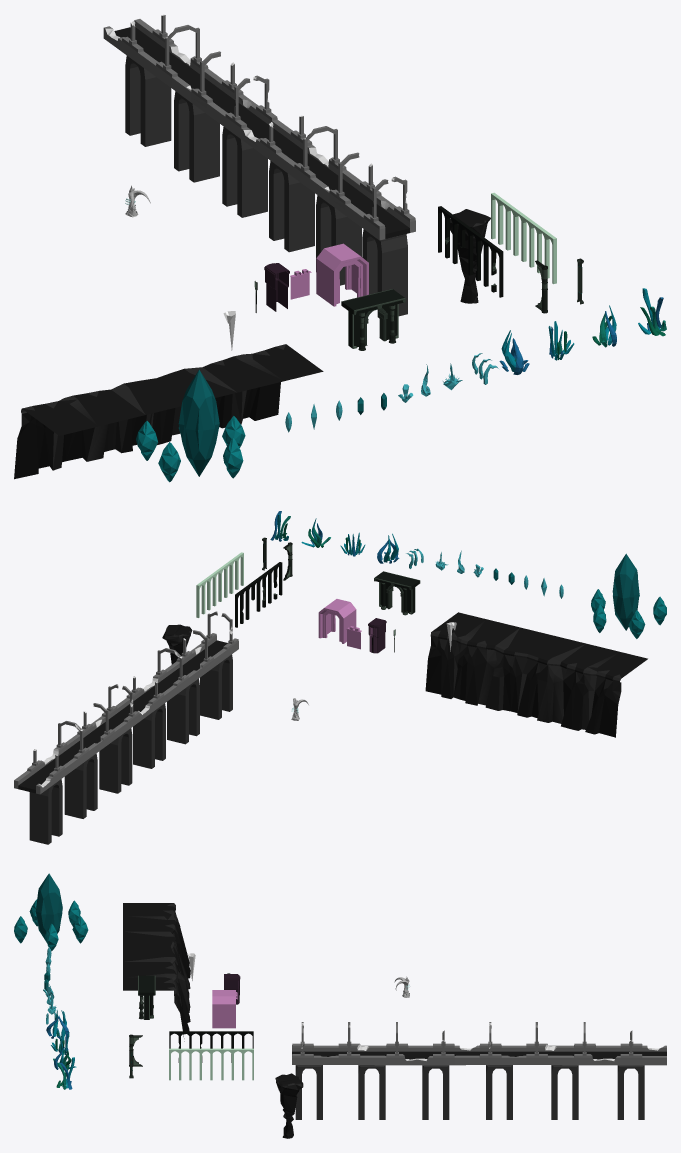
The model's file is Cristal_prefab_SRC.fbx.
The picture shows the model from 3 angles, top to bottom: view 1: azimuth 30°, elevation 25°; view 2: azimuth 150°, elevation 25°; view 3: azimuth 270°, elevation 25°; orthographic projection. The views are drawn at different scales.
Parts seen in each view (by area): view 1: most, skal, kri14, ark2, arka, Tube001, ark1, stakak2, bash, kri1; view 2: most, skal, kri14, ark2, ark1, Tube001, arka, stakak2, bash; view 3: most, skal, kri14, ark2, stakak2, arka, Tube001, ark1.
Part boxes in pixels (box(x1,y1,x2,y2)): most: box(103, 14, 415, 318); skal: box(14, 344, 323, 479); kri14: box(136, 369, 245, 482); ark2: box(491, 192, 556, 284); arka: box(316, 243, 368, 306); Tube001: box(341, 289, 405, 350); ark1: box(438, 206, 503, 297); stakak2: box(450, 209, 490, 303); bash: box(264, 263, 289, 311); kri1: box(638, 288, 666, 336); most: box(14, 611, 238, 844); skal: box(425, 612, 647, 737); kri14: box(591, 553, 666, 638); ark2: box(196, 552, 243, 617); ark1: box(235, 562, 282, 627); Tube001: box(374, 571, 420, 615); arka: box(318, 599, 356, 643); stakak2: box(162, 624, 192, 664); bash: box(368, 618, 386, 653); most: box(292, 1022, 666, 1119); skal: box(123, 903, 190, 1041); kri14: box(14, 873, 88, 950); ark2: box(169, 1048, 253, 1080); stakak2: box(275, 1073, 303, 1138); arka: box(212, 990, 235, 1028); Tube001: box(138, 975, 155, 1019); ark1: box(169, 1031, 253, 1062).
Bounding box in the file's own units: 28120 × 8227 × 41459.
